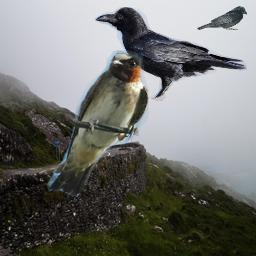Crow: (95, 7, 247, 101), (197, 6, 247, 30)
Swallow: (46, 50, 149, 197)
